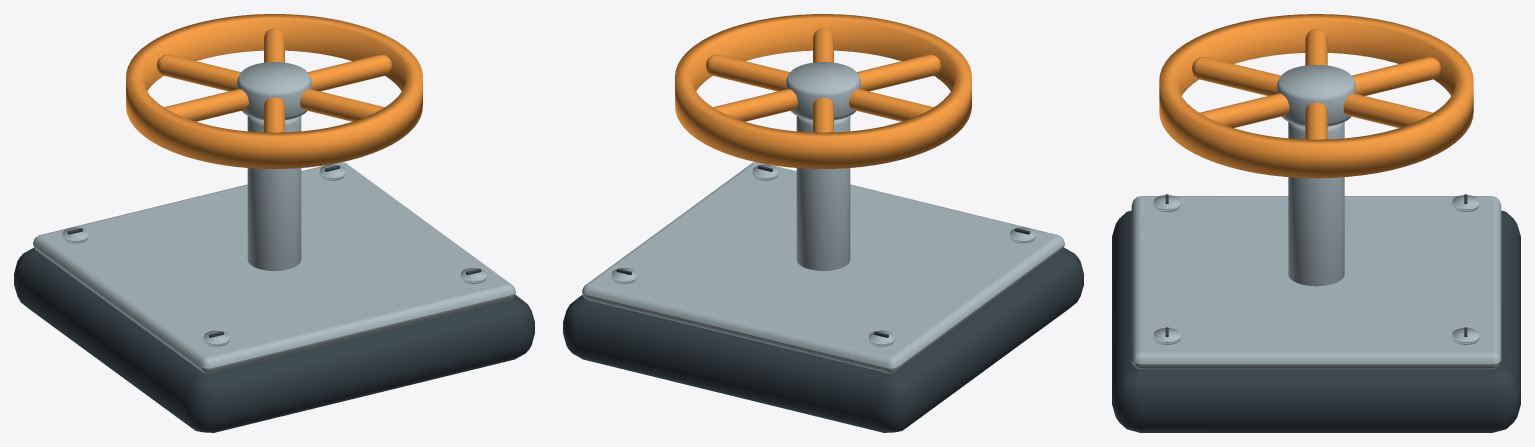
The model's file is valve.glb.
3 renders of one model, left to right at view 1: azimuth 30°, elevation 25°; view 2: azimuth 150°, elevation 25°; view 3: azimuth 270°, elevation 25°, orthographic. The views are drawn at different scales.
Parts seen in each view (by area): view 1: Satin upper panel, Machined plinth, valveWheel, Valve shaft, valveSpoke, valveSpoke.002, Valve hub, valveSpoke.001; view 2: Satin upper panel, Machined plinth, valveWheel, Valve shaft, valveSpoke, valveSpoke.001, Valve hub, valveSpoke.002; view 3: Satin upper panel, Machined plinth, valveWheel, Valve shaft, valveSpoke.001, valveSpoke.002, Valve hub, valveSpoke, Captive hex fastener, Captive hex fastener.001, Captive hex fastener.002, Captive hex fastener.003.
Part boxes in pixels (x1=…): Satin upper panel: x1=33, y1=162, x2=515, y2=373; Machined plinth: x1=14, y1=247, x2=534, y2=432; valveWheel: x1=126, y1=14, x2=422, y2=168; Valve shaft: x1=247, y1=116, x2=301, y2=270; valveSpoke: x1=164, y1=54, x2=391, y2=121; valveSpoke.002: x1=157, y1=54, x2=384, y2=121; Valve hub: x1=237, y1=62, x2=311, y2=120; valveSpoke.001: x1=264, y1=28, x2=284, y2=132; Satin upper panel: x1=582, y1=162, x2=1064, y2=373; Machined plinth: x1=563, y1=247, x2=1083, y2=432; valveWheel: x1=675, y1=14, x2=971, y2=168; Valve shaft: x1=796, y1=116, x2=850, y2=270; valveSpoke: x1=706, y1=54, x2=933, y2=121; valveSpoke.001: x1=713, y1=54, x2=940, y2=121; Valve hub: x1=786, y1=62, x2=860, y2=120; valveSpoke.002: x1=813, y1=28, x2=833, y2=132; Satin upper panel: x1=1131, y1=196, x2=1501, y2=369; Machined plinth: x1=1112, y1=210, x2=1520, y2=432; valveWheel: x1=1159, y1=14, x2=1473, y2=178; Valve shaft: x1=1288, y1=122, x2=1344, y2=286; valveSpoke.001: x1=1192, y1=57, x2=1433, y2=127; valveSpoke.002: x1=1199, y1=57, x2=1440, y2=127; Valve hub: x1=1277, y1=65, x2=1355, y2=126; valveSpoke: x1=1305, y1=29, x2=1327, y2=139; Captive hex fastener: x1=1153, y1=195, x2=1181, y2=211; Captive hex fastener.001: x1=1451, y1=195, x2=1479, y2=211; Captive hex fastener.002: x1=1153, y1=328, x2=1181, y2=344; Captive hex fastener.003: x1=1451, y1=328, x2=1479, y2=344.
Bounding box in the file's own units: 0.27 × 0.193 × 0.26.
